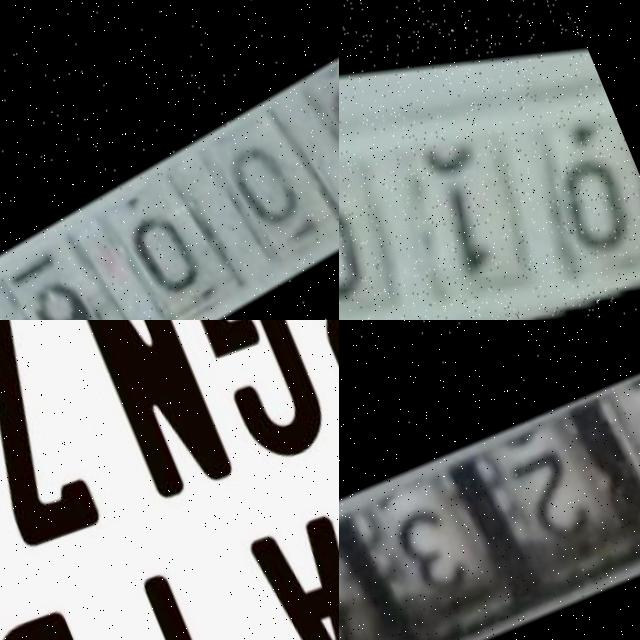0: (531, 117, 640, 278), (217, 115, 324, 238), (116, 189, 218, 308), (339, 165, 413, 320), (317, 51, 339, 173)
1: (408, 154, 532, 301)
2: (502, 422, 614, 556)
3: (386, 491, 496, 621)
6: (16, 256, 129, 320), (339, 570, 384, 640)
7: (0, 320, 105, 549)
A: (236, 495, 339, 640)
G: (158, 320, 337, 468)
N: (62, 320, 238, 507)
P: (83, 559, 262, 640), (264, 320, 339, 425)
